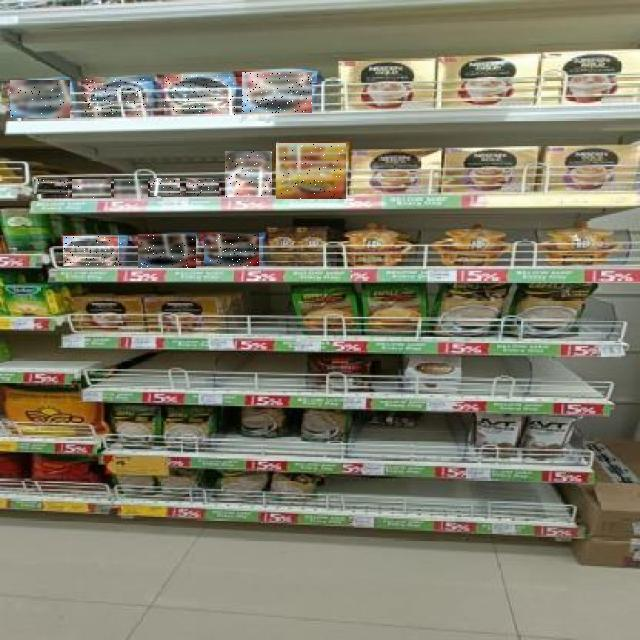Coffee: (276, 143, 346, 199), (164, 74, 236, 115), (242, 72, 312, 113), (84, 79, 148, 116), (10, 80, 70, 118), (225, 151, 272, 197), (139, 235, 197, 269), (204, 234, 259, 266), (64, 236, 122, 266), (72, 179, 111, 198), (114, 180, 148, 198), (34, 180, 68, 198), (186, 178, 219, 196), (151, 178, 181, 196)
